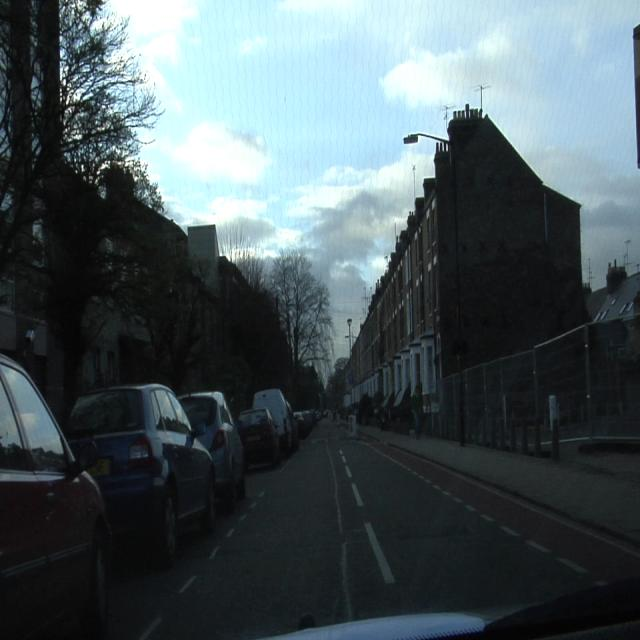Building: (349, 107, 640, 412)
Car: (1, 355, 110, 638), (70, 386, 214, 566), (179, 393, 245, 510), (248, 390, 299, 463), (240, 409, 280, 465)
Road: (105, 424, 632, 636)
Tree: (1, 0, 205, 385), (180, 250, 332, 413)
